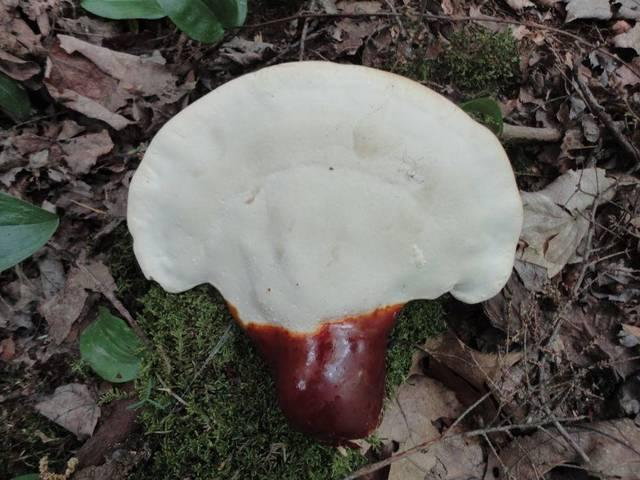poisonous_mushroom: (124, 58, 525, 445)
